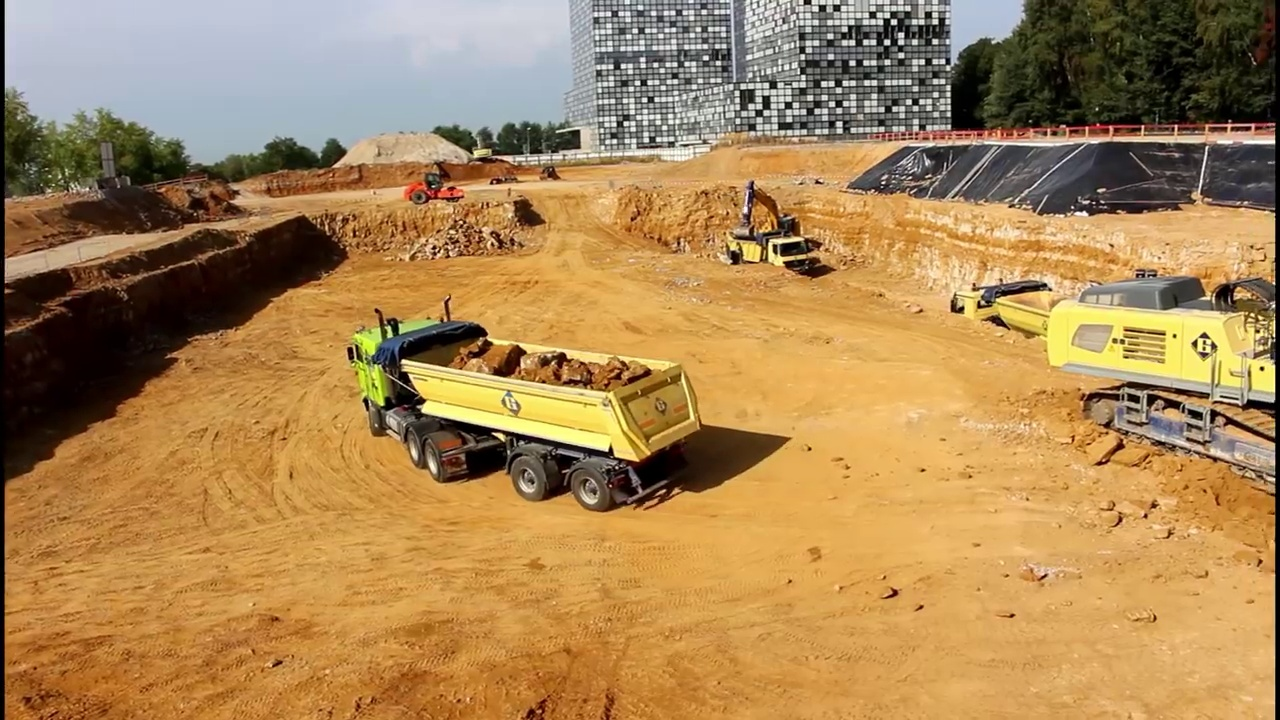compactor: (402, 169, 468, 206), (465, 121, 502, 167)
excavator: (1041, 265, 1280, 491), (730, 178, 813, 264)
truck: (340, 289, 710, 516), (946, 276, 1147, 390), (726, 231, 816, 288)
